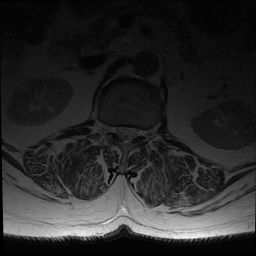CCS_stenosis: (123, 119, 131, 149)
LFS_normal: (139, 124, 146, 143)
LLS_normal: (131, 120, 138, 144)
RFS_stenosis: (108, 120, 116, 139)
RLS_normal: (116, 119, 123, 145)
